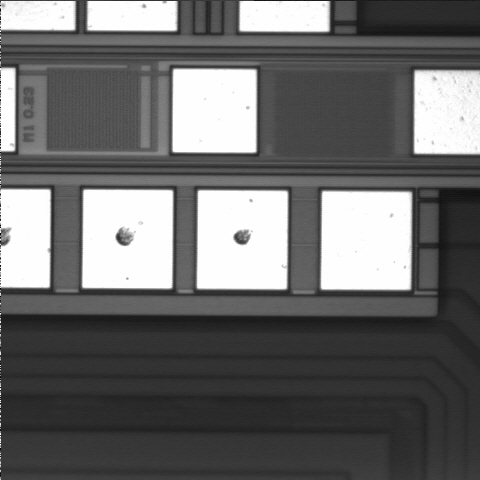pad: (197, 190, 288, 289), (82, 190, 173, 288), (321, 191, 411, 290), (173, 69, 256, 153)
